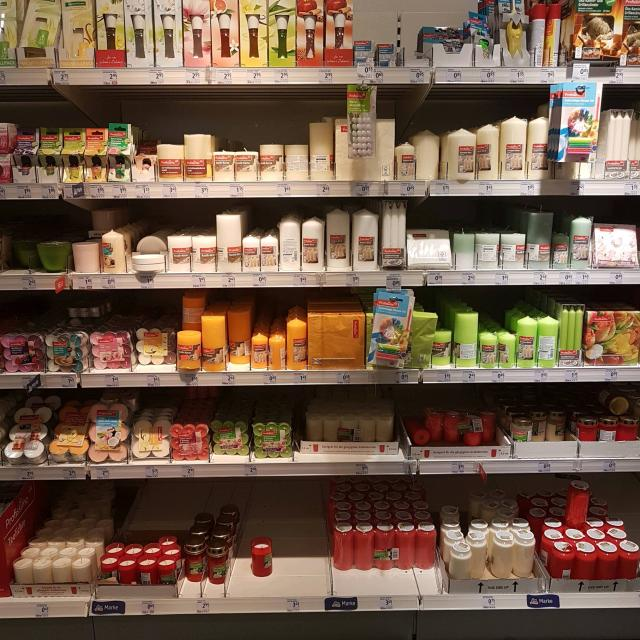void: (302, 494, 327, 616), (277, 491, 301, 612)
